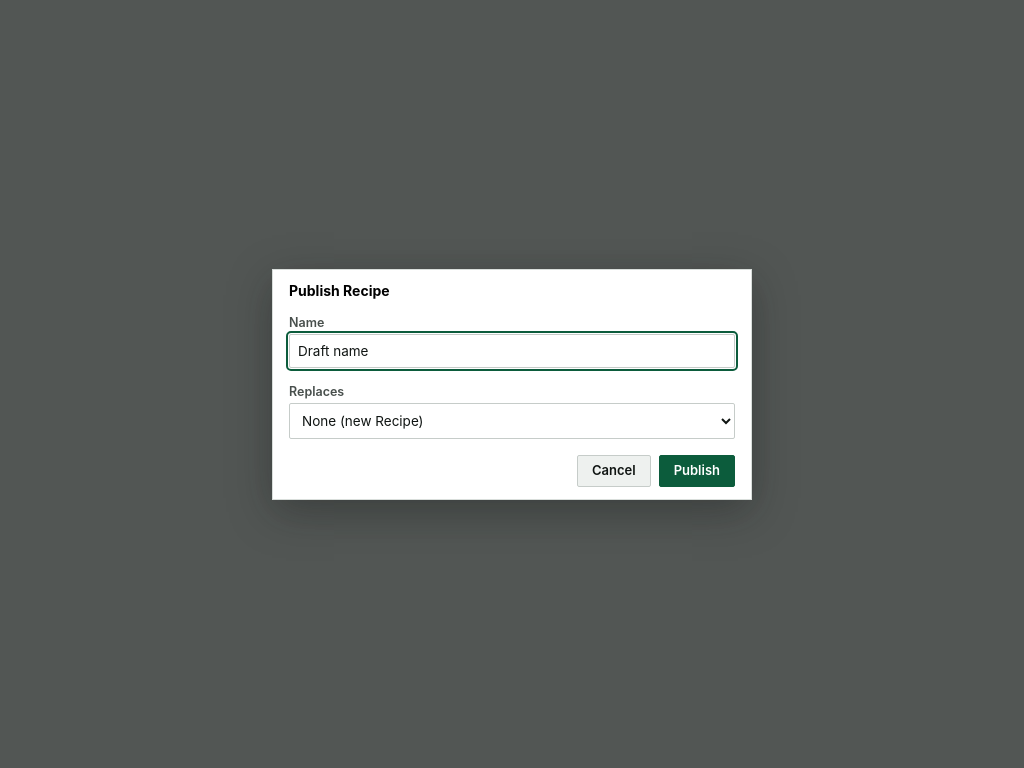
PublishRecipeModal › falls back to a generic message for a non-Error rejection
Click the button "Publish" at (697, 470), box [659, 454, 735, 486]
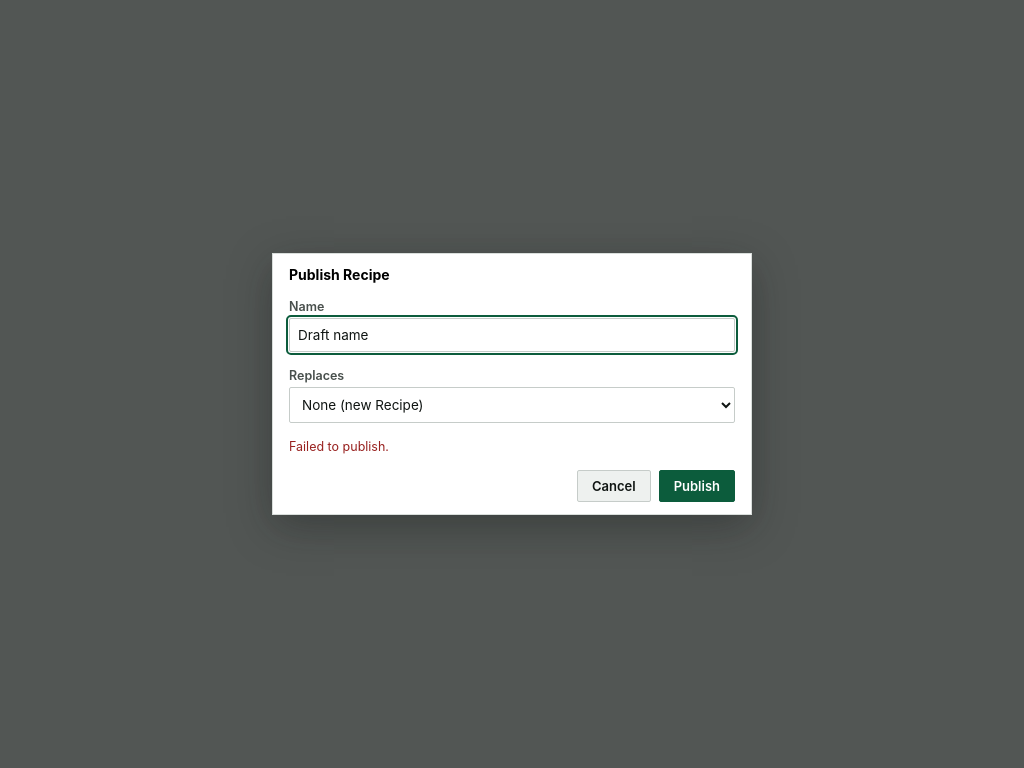
Expected: the text "Failed to publish." is shown, [289, 439, 389, 454]
